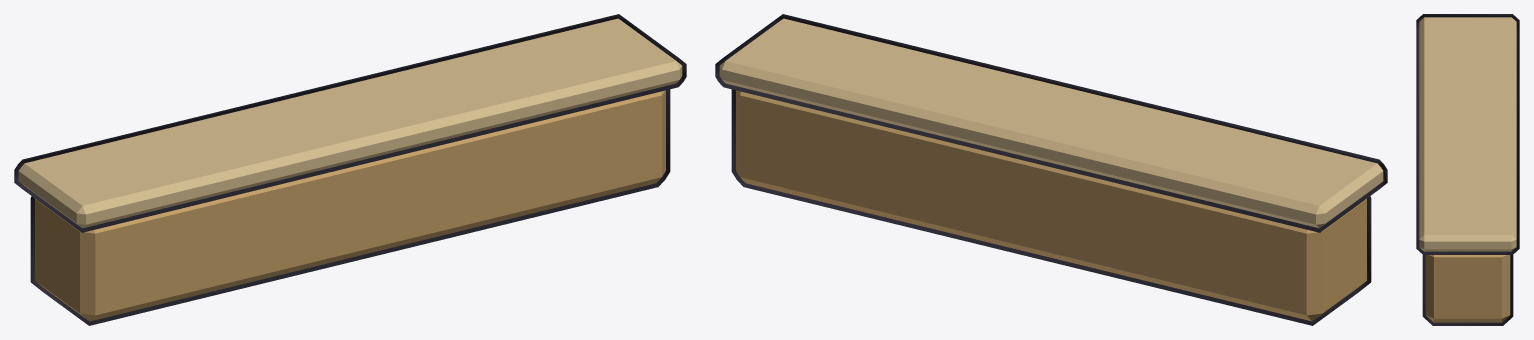
File: low_wall.glb
3 views of the same model, side by side, from view 1: azimuth 30°, elevation 25°; view 2: azimuth 150°, elevation 25°; view 3: azimuth 270°, elevation 25° (orthographic). The views are drawn at different scales.
Visible parts, largest first — view 1: low_wall; view 2: low_wall; view 3: low_wall.
Part boxes in pixels (box(x1,y1,x2,y2)): low_wall: box(14, 14, 686, 325); low_wall: box(715, 14, 1387, 325); low_wall: box(1416, 14, 1519, 325).
Size of the model in its own units: 6.27 by 1.28 by 1.22.
